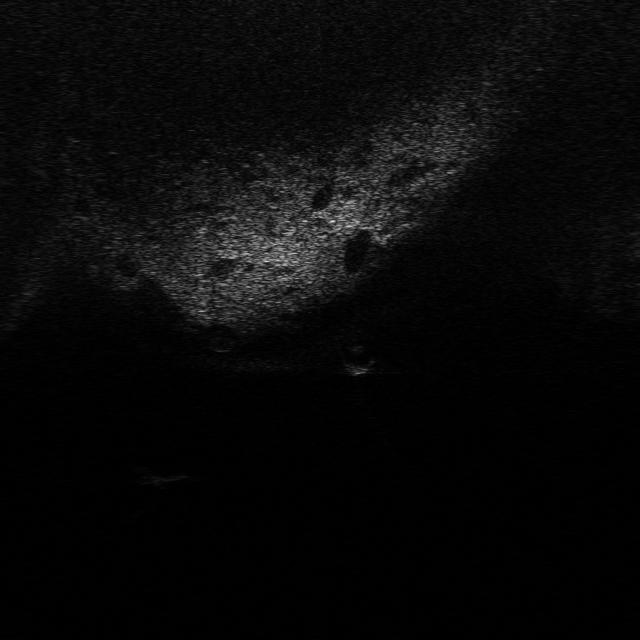ball: (336, 344, 378, 374)
cube: (129, 461, 187, 486)
